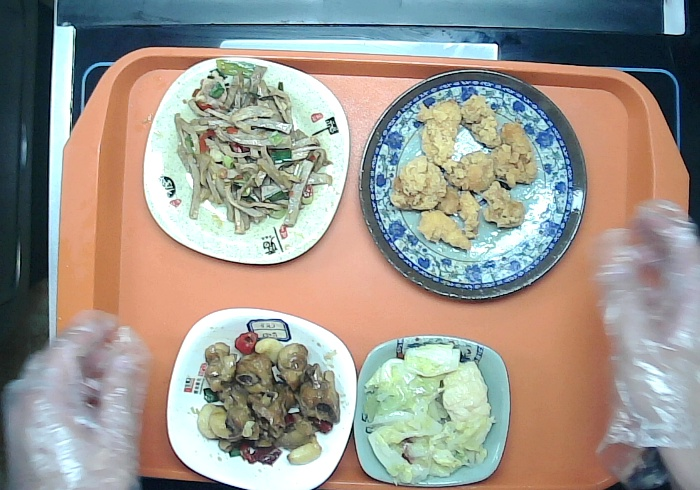NLDX-Bai_Se_Xiao_Fang_Die: (162, 305, 361, 490)
NLDX-Fu_Zi_Fang_Die: (138, 53, 355, 269)
NLDX-Qing_Hua_Xiao_Fang_Die: (351, 333, 513, 490)
NLDX-Qing_Hua_Yuan_Die: (354, 64, 592, 306)
